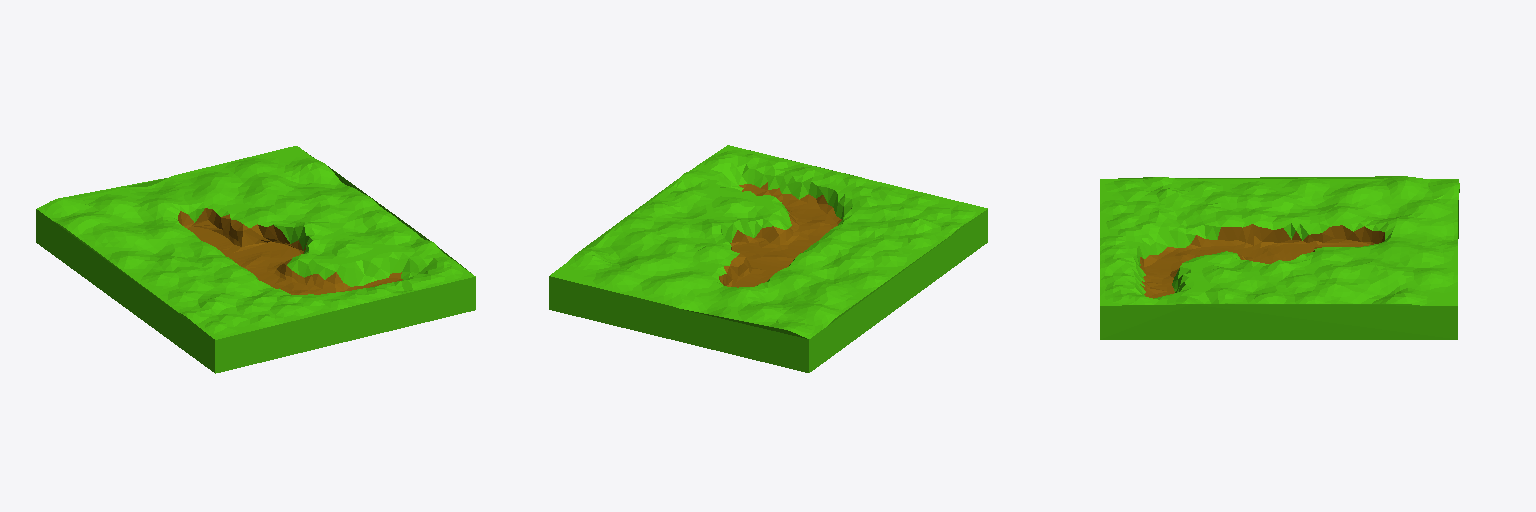
Rendered from Outside.obj.
3 views of the same model, side by side, from view 1: azimuth 30°, elevation 25°; view 2: azimuth 150°, elevation 25°; view 3: azimuth 270°, elevation 25° (orthographic).
Parts seen in each view (by area): view 1: Cube; view 2: Cube; view 3: Cube.
Part boxes in pixels (x1,y1,x2,y2): Cube: (36,146,475,373); Cube: (549,145,987,372); Cube: (1100,176,1459,339).
Size of the model in its own units: 58.94 by 8.74 by 70.12.